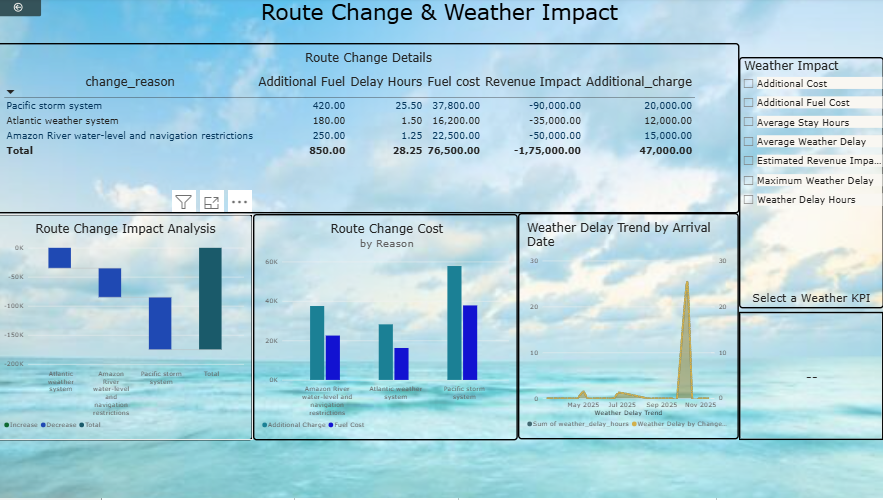

The dashboard page shown, as its layout file describes it:
{"tool":"powerbi","page":{"name":"Route, Diversion & Weather Intelligence","canvas":[1920,1080],"ordinal":2},"visuals":[{"type":"waterfallChart","title":"Route Change Impact Analysis","fields":{"Category":["public route_route_change.change_reason"],"Y":["public route_route_change.Estimated Revenue Impact"]},"box":[0,466,557.4,489.4],"z":0},{"type":"clusteredColumnChart","title":"Route Change Cost ","fields":{"Category":["public route_route_change.change_reason"],"Series":["Cost Type.Cost Type"],"Y":["Cost Type.Route Change Cost"]},"box":[558.3,466.7,572.3,489.4],"z":2},{"type":"tableEx","title":"Route Change Details","fields":{"Values":["public route_route_change.change_reason","Sum(public route_route_change.additional_fuel_litres)","Sum(public route_route_change.weather_delay_hours)","Sum(public route_route_change.additional_fuel_cost)","Sum(public route_route_change.estimated_revenue_impact)","Sum(public route_route_change.additional_charge)"]},"box":[0,97.5,1607.5,367.5],"z":3},{"type":"textbox","title":"Route Change & Weather Impact","box":[0,0,1919.1,97.9],"z":7},{"type":"areaChart","title":"Weather Delay Trend by Arrival Date","fields":{"Category":["public port_call.arrival_date"],"Y":["Sum(public port_call.weather_delay_hours)"],"Y2":["public route_route_change.Weather Delay by Change Reason"]},"box":[1130,465,476.6,489.4],"z":12},{"type":"slicer","fields":{"Values":["Weather KPI.KPI"]},"box":[1607.5,127.5,312.5,542.5],"z":16},{"type":"cardVisual","fields":{"Data":["Weather KPI.Weather KPI Value"]},"box":[1607.5,632.5,312.5,322.5],"z":17},{"type":"actionButton","box":[0,0,100,40],"z":18}]}

Visuals, with their boxes in screenshot pixels (x1, y1, x2, y2), scaled from the page's 1920x1080 canvas onto the 883x500 screenshot:
"Route Change Impact Analysis" waterfallChart: l=0, t=216, r=256, b=442
"Route Change Cost " clusteredColumnChart: l=257, t=216, r=520, b=443
"Route Change Details" tableEx: l=0, t=45, r=739, b=215
"Route Change & Weather Impact" textbox: l=0, t=0, r=882, b=45
"Weather Delay Trend by Arrival Date" areaChart: l=520, t=215, r=739, b=442
slicer - Weather KPI.KPI: l=739, t=59, r=882, b=310
cardVisual - Weather KPI.Weather KPI Value: l=739, t=293, r=882, b=442
actionButton: l=0, t=0, r=46, b=19
